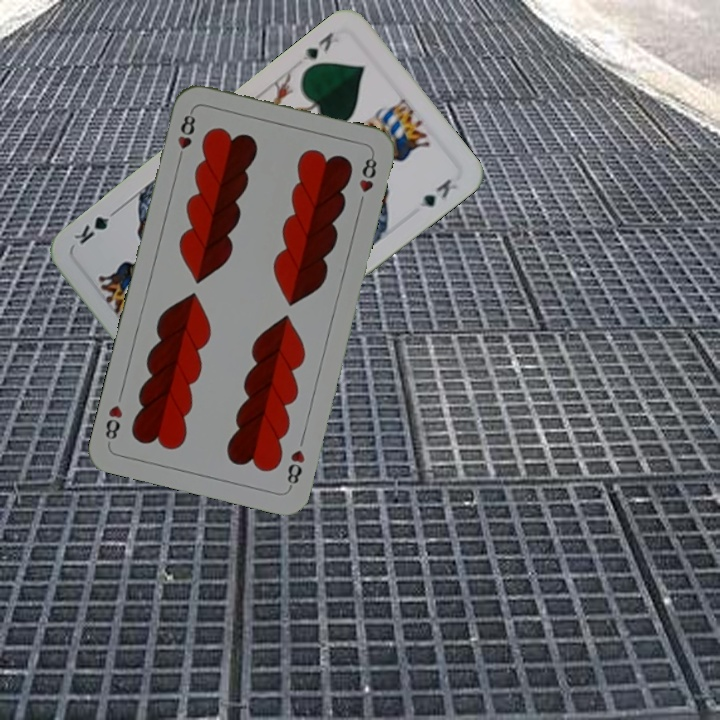GK: (298, 27, 336, 66)
H8: (173, 107, 198, 165), (283, 445, 308, 491)
